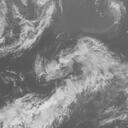cyclone: (34, 36, 101, 89)
